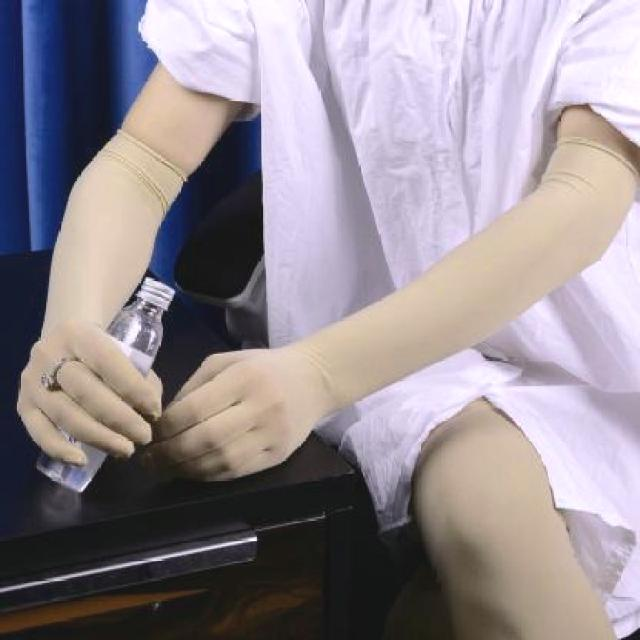hand_glove: (11, 314, 166, 483), (162, 348, 306, 480)
